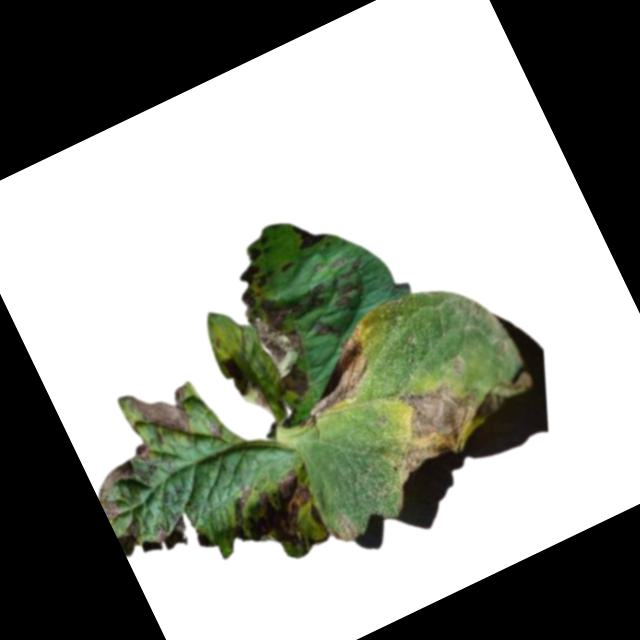Early_blight: (233, 259, 359, 400), (370, 364, 494, 479), (217, 459, 328, 567), (276, 332, 385, 430), (123, 369, 207, 457), (86, 443, 170, 520), (287, 210, 330, 253), (217, 351, 250, 398), (236, 261, 267, 291), (146, 521, 170, 545)
